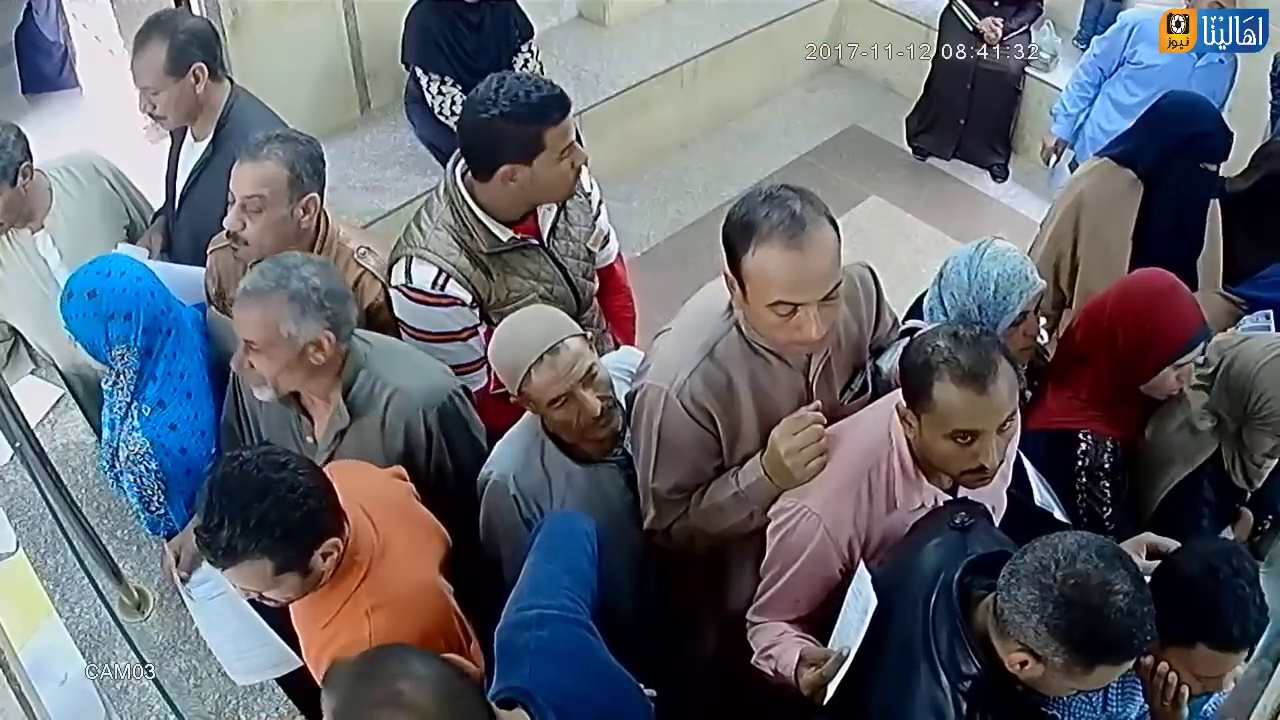face: (735, 266, 846, 360), (915, 394, 1016, 486), (228, 289, 300, 402), (528, 362, 622, 448), (224, 159, 287, 259), (128, 44, 191, 144), (530, 123, 595, 215), (1006, 291, 1047, 366)
